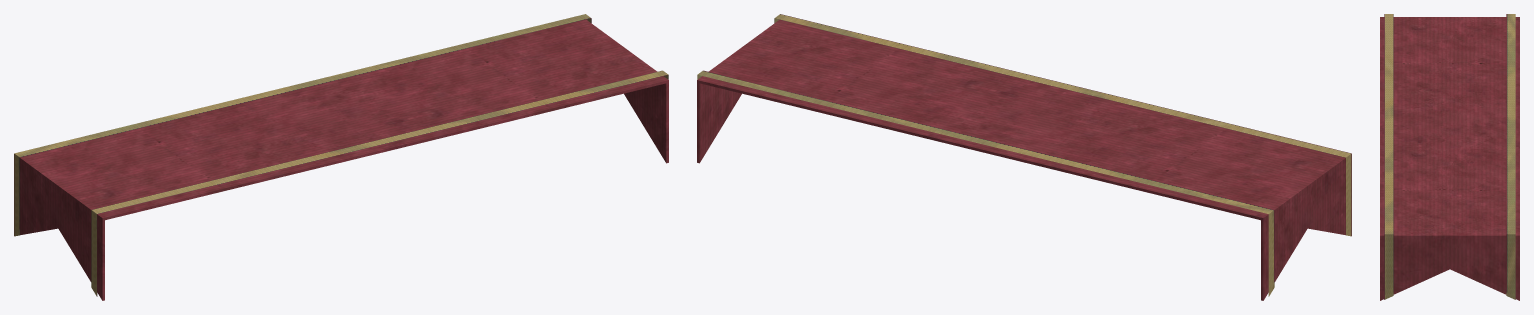
The model's file is table-cloth03.glb.
The picture shows the model from 3 angles, left to right: view 1: azimuth 30°, elevation 25°; view 2: azimuth 150°, elevation 25°; view 3: azimuth 270°, elevation 25°; orthographic projection. The views are drawn at different scales.
Parts seen in each view (by area): view 1: table-cloth03; view 2: table-cloth03; view 3: table-cloth03.
Part boxes in pixels (x1,y1,x2,y2): table-cloth03: [14, 14, 668, 300]; table-cloth03: [697, 14, 1351, 300]; table-cloth03: [1380, 14, 1519, 300].
Size of the model in its own units: 2.24 by 0.32 by 0.6.
2 materials, 2 textured.
